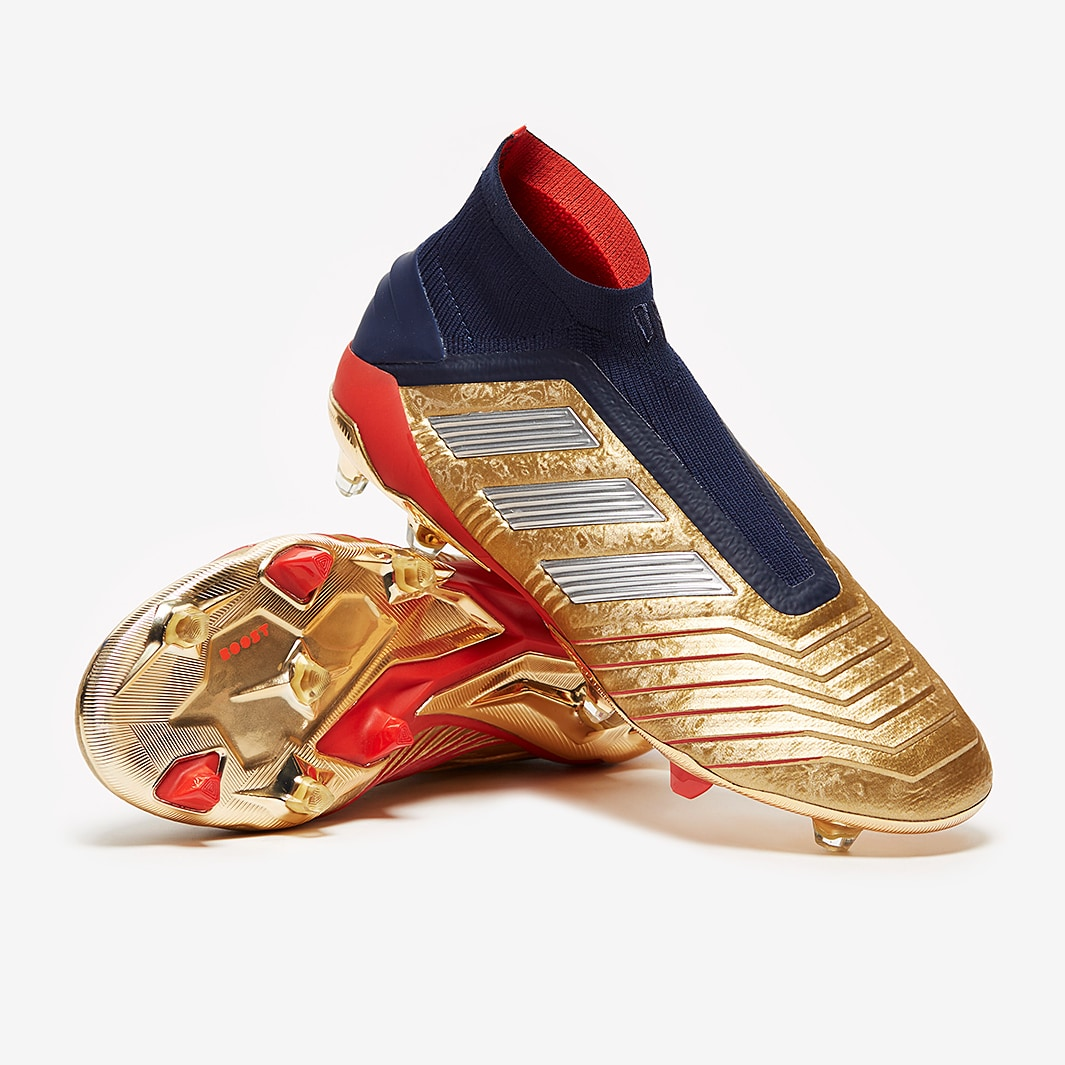football boots: (337, 151, 993, 851), (73, 547, 649, 827)
